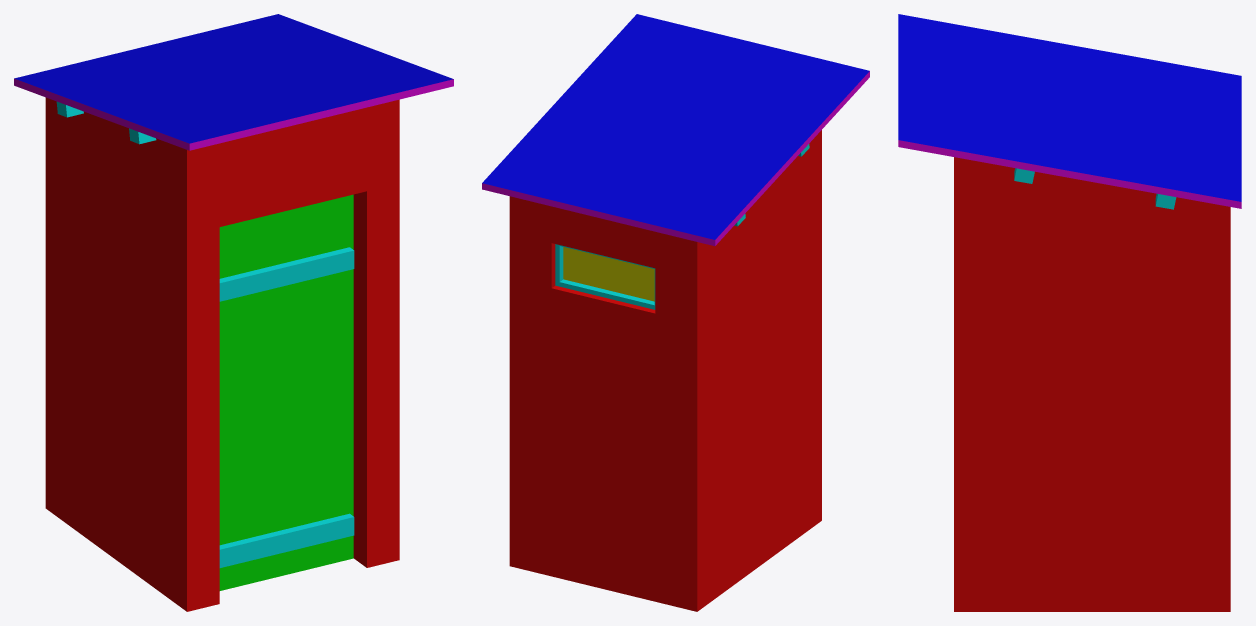
The model's file is Lighthouse_Building_I.fbx.
3 views of the same model, side by side, from view 1: azimuth 30°, elevation 25°; view 2: azimuth 150°, elevation 25°; view 3: azimuth 270°, elevation 25° (orthographic). The views are drawn at different scales.
Visible parts, largest first — view 1: Lighthouse_Building_I; view 2: Lighthouse_Building_I; view 3: Lighthouse_Building_I.
Boxes of the visible parts, x1=… form: Lighthouse_Building_I: x1=14, y1=14, x2=453, y2=611; Lighthouse_Building_I: x1=482, y1=14, x2=869, y2=611; Lighthouse_Building_I: x1=898, y1=14, x2=1241, y2=611.
Size of the model in its own units: 162 by 290 by 186.
